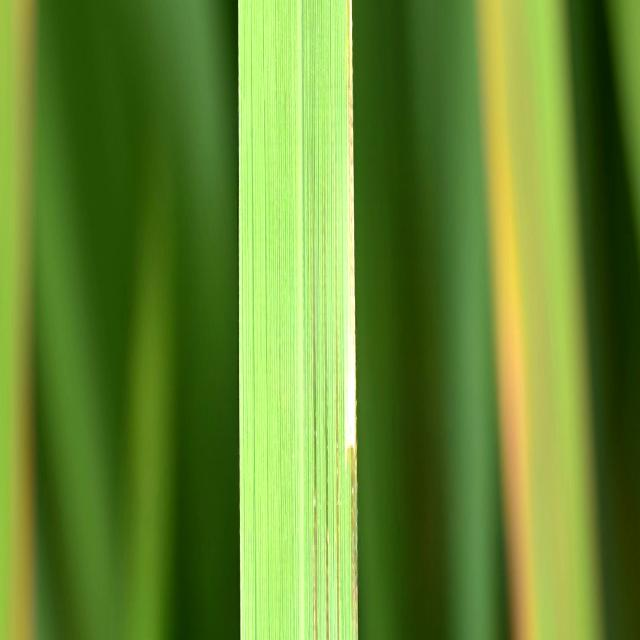BLS: (344, 0, 358, 640), (323, 170, 329, 640), (313, 157, 317, 640), (335, 265, 340, 640)
